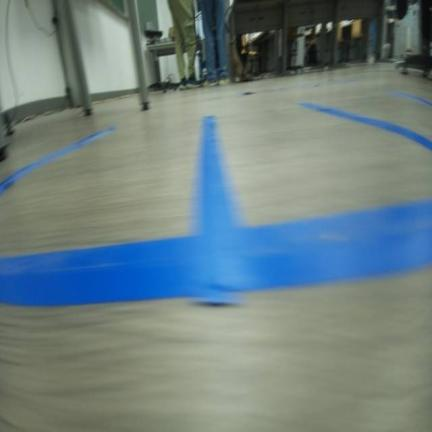place: (0, 112, 252, 302), (195, 101, 431, 300), (299, 87, 431, 152)
